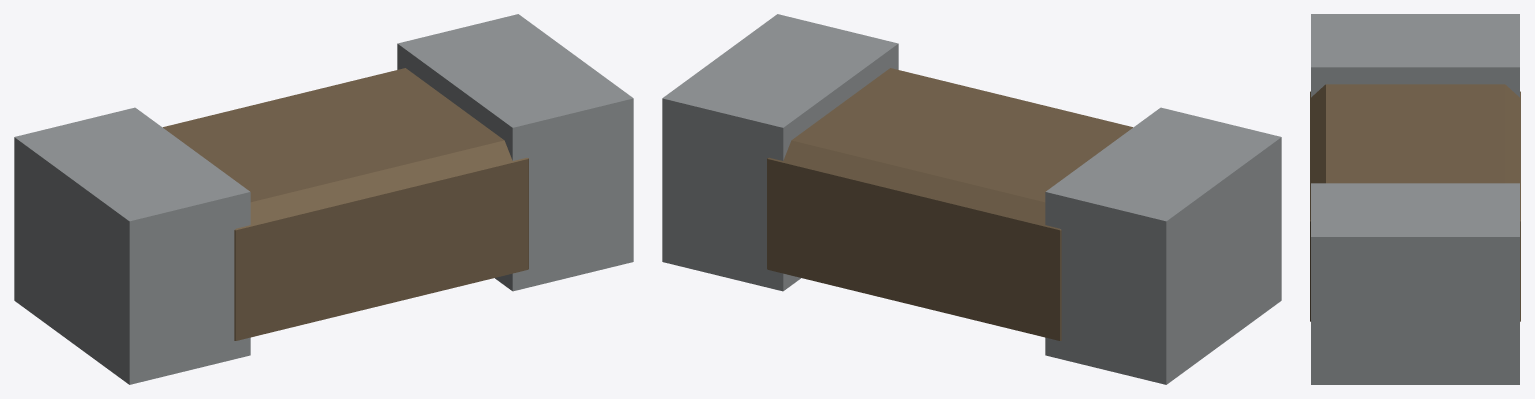
The picture shows the model from 3 angles, left to right: view 1: azimuth 30°, elevation 25°; view 2: azimuth 150°, elevation 25°; view 3: azimuth 270°, elevation 25°; orthographic projection. The views are drawn at different scales.
Parts seen in each view (by area): view 1: C_S121__Solder, C_S121__Ceramic; view 2: C_S121__Solder, C_S121__Ceramic; view 3: C_S121__Solder, C_S121__Ceramic.
Boxes of the visible parts, left/top/right/bottom form: C_S121__Solder: left=14, top=14, right=633, bottom=384; C_S121__Ceramic: left=163, top=68, right=528, bottom=340; C_S121__Solder: left=662, top=14, right=1281, bottom=384; C_S121__Ceramic: left=767, top=68, right=1132, bottom=340; C_S121__Solder: left=1311, top=14, right=1519, bottom=384; C_S121__Ceramic: left=1310, top=84, right=1520, bottom=321.
Size of the model in its own units: 2 by 0.62 by 0.8.
